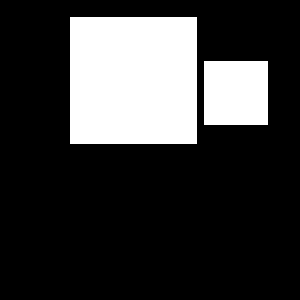circle: (70, 17, 197, 144), (204, 61, 268, 125)
